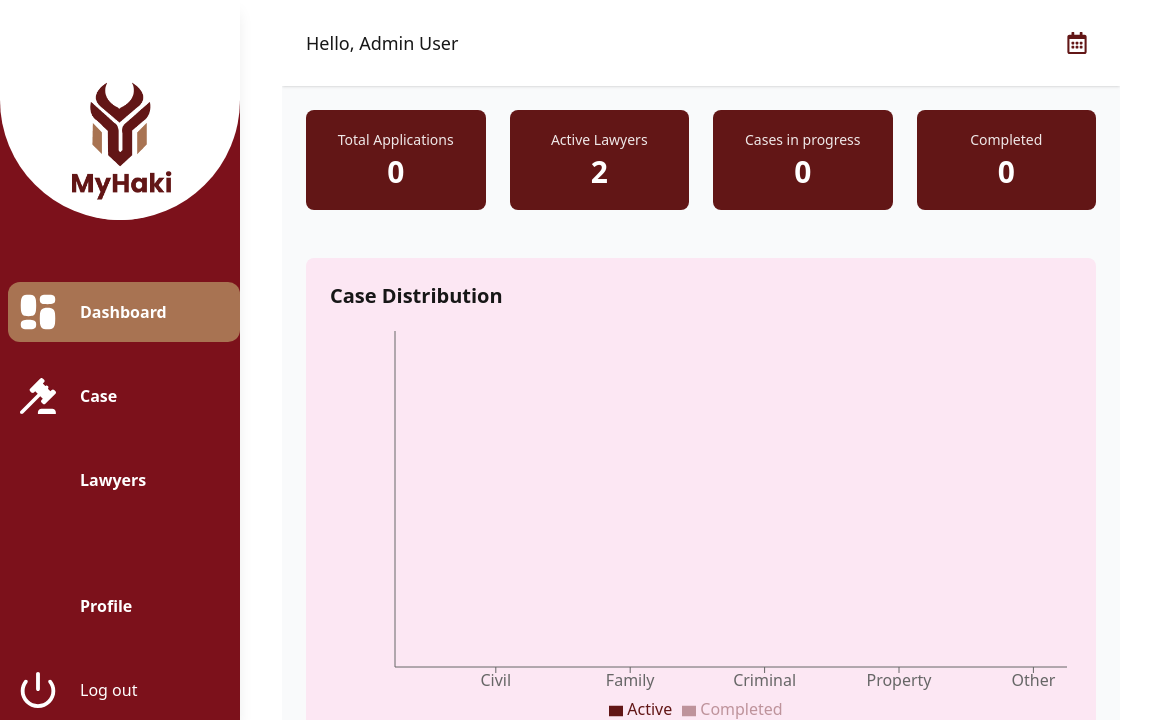
Scenario: DashboardPage › opens calendar popup when calendar button clicked
This screenshot has width=1152, height=720.
What coordinates should you click on to do the following:
click the button named "open month/year picker"
I would click on:
 (1077, 43)
Its box is [1058, 24, 1096, 62].
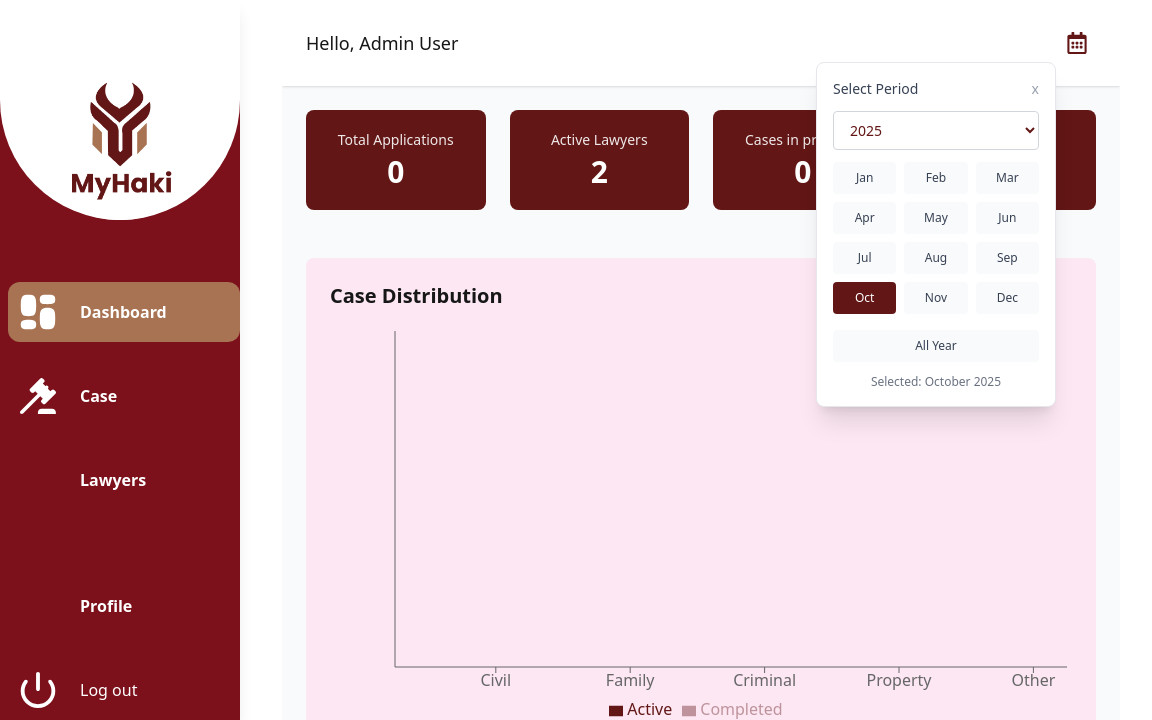
Expected: the text "Select Period" is shown, [833, 79, 918, 99]
